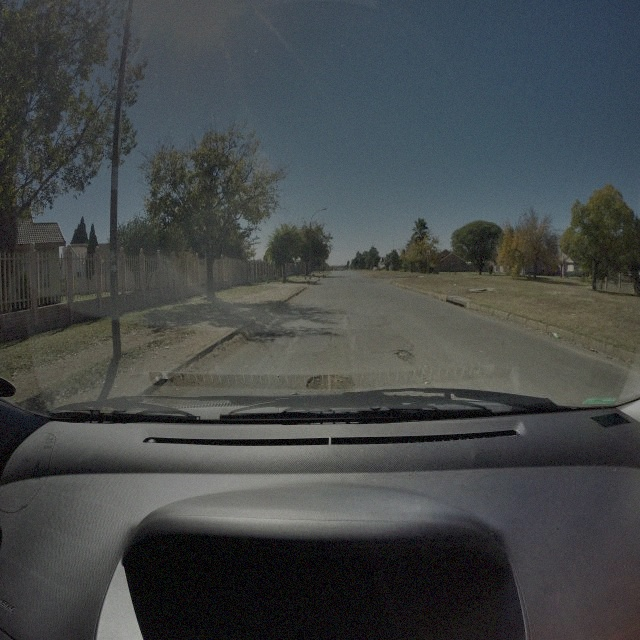pothole: (305, 370, 356, 392), (396, 346, 414, 364)
